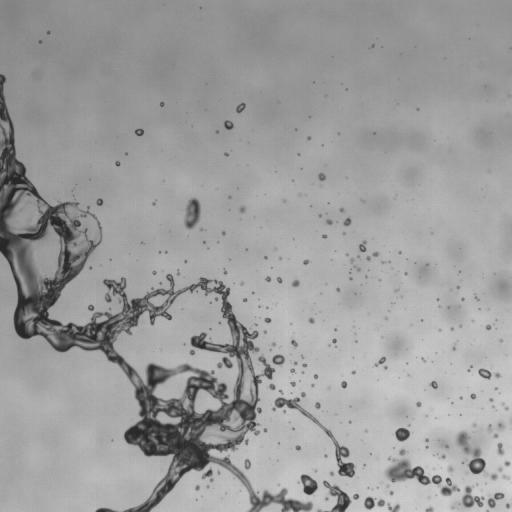droplet: (184, 197, 200, 229), (296, 474, 319, 496), (393, 423, 413, 441), (486, 492, 504, 508), (272, 354, 285, 366), (496, 442, 505, 456), (4, 99, 15, 110), (228, 111, 239, 122), (176, 209, 187, 220), (62, 282, 73, 293), (125, 289, 136, 300), (95, 300, 106, 311), (110, 302, 121, 313), (46, 307, 57, 318), (78, 315, 89, 326), (253, 362, 264, 373), (300, 398, 311, 409), (497, 410, 508, 421), (130, 412, 141, 423), (446, 433, 457, 444), (466, 436, 477, 447), (129, 443, 140, 454), (450, 443, 461, 454), (230, 455, 241, 466), (187, 468, 198, 479), (466, 472, 477, 483), (335, 475, 346, 486), (395, 478, 406, 489), (489, 481, 500, 492), (428, 483, 439, 494), (315, 485, 326, 496), (482, 487, 493, 498), (451, 490, 462, 501), (297, 492, 308, 503), (133, 495, 144, 506), (358, 240, 367, 252), (236, 102, 245, 113), (271, 502, 282, 511), (224, 120, 234, 129), (342, 217, 351, 226), (180, 197, 189, 206), (90, 204, 99, 213), (321, 224, 330, 233), (357, 257, 366, 266), (282, 277, 291, 286), (161, 280, 170, 289), (111, 293, 120, 302), (9, 296, 18, 305), (230, 305, 239, 314), (235, 314, 244, 323), (257, 321, 266, 330), (32, 334, 41, 343), (95, 349, 104, 358), (282, 360, 291, 369), (305, 366, 314, 375), (126, 385, 135, 394), (270, 389, 279, 398), (306, 404, 315, 413), (244, 429, 253, 438), (326, 445, 335, 454), (207, 447, 216, 456), (440, 458, 449, 467), (423, 468, 432, 477), (269, 486, 278, 495), (371, 491, 380, 500), (163, 492, 172, 501), (443, 494, 452, 503), (328, 496, 337, 505), (429, 380, 437, 389), (266, 383, 275, 391), (447, 465, 454, 475), (244, 458, 250, 469), (505, 449, 511, 460), (505, 491, 511, 502), (260, 505, 271, 511), (370, 505, 381, 511), (468, 505, 479, 511), (492, 505, 503, 511), (291, 279, 299, 287), (134, 128, 143, 135), (318, 172, 325, 181), (501, 473, 510, 480), (239, 205, 246, 213), (353, 265, 361, 272), (96, 198, 103, 205), (40, 33, 47, 40), (2, 89, 9, 96), (14, 153, 21, 160), (24, 171, 31, 178), (187, 192, 194, 199), (49, 199, 56, 206), (198, 206, 205, 213), (178, 220, 185, 227), (193, 222, 200, 229), (179, 223, 186, 230), (365, 248, 372, 255), (87, 252, 94, 259), (353, 258, 360, 265), (81, 265, 88, 272), (359, 268, 366, 275), (106, 273, 113, 280), (270, 277, 277, 284), (223, 280, 230, 287), (101, 285, 108, 292), (466, 294, 473, 301), (225, 295, 232, 302), (54, 298, 61, 305), (93, 305, 100, 312), (7, 310, 14, 317), (60, 318, 67, 325), (7, 319, 14, 326), (263, 322, 270, 329), (14, 334, 21, 341), (20, 337, 27, 344), (251, 338, 258, 345), (70, 345, 77, 352), (265, 357, 272, 364), (111, 361, 118, 368), (294, 364, 301, 371), (471, 366, 478, 373), (290, 373, 297, 380), (259, 374, 266, 381), (490, 390, 497, 397), (283, 392, 290, 399), (134, 404, 141, 411), (290, 407, 297, 414), (502, 417, 509, 424), (465, 428, 472, 435), (438, 447, 445, 454), (166, 453, 173, 460), (401, 453, 408, 460), (466, 453, 473, 460), (149, 454, 156, 461), (341, 456, 348, 463), (237, 463, 244, 470), (202, 464, 209, 471), (219, 466, 226, 473), (159, 470, 166, 477), (383, 476, 390, 483), (411, 476, 418, 483), (233, 477, 240, 484), (439, 479, 446, 486), (316, 481, 323, 488), (173, 482, 180, 489), (458, 489, 465, 496), (469, 489, 476, 496), (346, 490, 353, 497), (242, 491, 249, 498), (256, 491, 263, 498), (283, 493, 290, 500), (358, 495, 365, 502), (383, 495, 390, 502), (494, 498, 501, 505), (100, 501, 107, 508), (302, 259, 310, 265), (341, 380, 347, 388), (425, 505, 433, 511), (506, 465, 511, 474), (326, 219, 333, 225), (372, 251, 379, 257), (265, 276, 272, 282), (264, 317, 271, 323), (308, 317, 314, 324), (289, 380, 295, 387), (314, 402, 320, 409), (503, 460, 510, 466), (496, 466, 503, 472), (276, 277, 282, 283), (88, 304, 94, 310), (485, 324, 491, 330), (470, 393, 476, 399), (0, 252, 4, 261), (438, 454, 445, 459), (416, 401, 421, 407), (295, 445, 301, 450), (329, 470, 334, 476), (194, 484, 199, 490), (149, 507, 156, 511), (309, 507, 316, 511), (343, 507, 350, 511), (488, 507, 495, 511), (115, 161, 120, 166), (339, 207, 344, 212), (242, 297, 247, 302), (421, 357, 426, 362), (290, 368, 295, 373), (313, 374, 318, 379), (471, 422, 476, 427), (444, 444, 449, 449), (4, 74, 9, 79), (2, 81, 7, 86), (231, 105, 236, 110), (8, 112, 13, 117), (11, 120, 16, 125), (12, 125, 17, 130), (220, 125, 225, 130), (224, 128, 229, 133), (13, 141, 18, 146), (22, 161, 27, 166), (323, 171, 328, 176), (313, 174, 318, 179), (315, 178, 320, 183), (321, 179, 326, 184), (37, 190, 42, 195), (60, 197, 65, 202), (68, 197, 73, 202), (239, 201, 244, 206), (88, 207, 93, 212), (234, 207, 239, 212), (244, 207, 249, 212), (239, 212, 244, 217), (326, 214, 331, 219), (321, 215, 326, 220), (330, 216, 335, 221), (340, 216, 345, 221), (350, 218, 355, 223), (347, 223, 352, 228), (343, 225, 348, 230), (101, 227, 106, 232), (354, 246, 359, 251), (359, 251, 364, 256), (345, 255, 350, 260), (370, 255, 375, 260), (83, 262, 88, 267), (384, 262, 389, 267), (351, 267, 356, 272), (172, 275, 177, 280), (270, 275, 275, 280), (115, 277, 120, 282), (289, 277, 294, 282), (193, 278, 198, 283), (11, 281, 16, 286), (185, 281, 190, 286), (298, 281, 303, 286), (153, 284, 158, 289), (294, 285, 299, 290), (12, 286, 17, 291), (172, 286, 177, 291), (122, 287, 127, 292), (228, 289, 233, 294), (396, 290, 401, 295), (138, 293, 143, 298), (260, 306, 265, 311), (88, 310, 93, 315), (110, 310, 115, 315), (384, 311, 389, 316), (312, 315, 317, 320), (304, 320, 309, 325), (449, 321, 454, 326), (453, 324, 458, 329), (257, 330, 262, 335), (294, 337, 299, 342), (327, 338, 332, 343), (275, 340, 280, 345), (45, 342, 50, 347), (288, 343, 293, 348), (296, 344, 301, 349), (50, 347, 55, 352), (86, 349, 91, 354), (56, 350, 61, 355), (270, 351, 275, 356), (375, 355, 380, 360), (425, 359, 430, 364), (297, 360, 302, 365), (382, 360, 387, 365), (269, 362, 274, 367), (289, 363, 294, 368), (378, 363, 383, 368), (302, 366, 307, 371), (489, 368, 494, 373), (498, 369, 503, 374), (271, 371, 276, 376), (490, 374, 495, 379), (479, 376, 484, 381), (311, 378, 316, 383), (435, 379, 440, 384), (294, 381, 299, 386), (257, 382, 262, 387), (336, 382, 341, 387), (274, 385, 279, 390), (304, 390, 309, 395), (257, 392, 262, 397), (276, 392, 281, 397), (295, 392, 300, 397), (304, 393, 309, 398), (255, 402, 260, 407), (270, 402, 275, 407), (282, 404, 287, 409), (498, 405, 503, 410), (275, 406, 280, 411), (299, 413, 304, 418), (318, 418, 323, 423), (310, 421, 315, 426), (491, 422, 496, 427), (401, 423, 406, 428), (325, 424, 330, 429), (394, 424, 399, 429), (254, 425, 259, 430), (482, 428, 487, 433), (330, 429, 335, 434), (259, 430, 264, 435), (321, 431, 326, 436), (391, 434, 396, 439), (495, 437, 500, 442), (121, 438, 126, 443), (403, 438, 408, 443), (441, 439, 446, 444), (426, 440, 431, 445), (338, 441, 343, 446), (501, 444, 506, 449), (493, 445, 498, 450), (348, 449, 353, 454), (479, 453, 484, 458), (331, 455, 336, 460), (439, 458, 444, 463), (499, 461, 504, 466), (420, 463, 425, 468), (334, 465, 339, 470), (464, 465, 469, 470), (483, 465, 488, 470), (211, 469, 216, 474), (422, 470, 427, 475), (467, 470, 472, 475), (478, 471, 483, 476), (496, 471, 501, 476), (310, 474, 315, 479), (343, 474, 348, 479), (427, 474, 432, 479), (204, 475, 209, 480), (295, 475, 300, 480), (485, 476, 490, 481), (450, 479, 455, 484), (208, 481, 213, 486), (329, 481, 334, 486), (428, 481, 433, 486), (466, 481, 471, 486), (298, 483, 303, 488), (199, 484, 204, 489), (340, 486, 345, 491), (324, 487, 329, 492), (495, 487, 500, 492), (313, 489, 318, 494), (368, 492, 373, 497), (482, 499, 487, 504), (472, 501, 477, 506), (390, 502, 395, 507), (382, 503, 387, 508), (124, 504, 129, 509), (199, 227, 205, 231), (350, 257, 354, 263), (223, 268, 227, 274), (350, 370, 356, 374), (0, 133, 3, 140), (160, 102, 164, 107), (224, 152, 229, 156), (221, 230, 225, 235), (322, 234, 327, 238), (356, 254, 360, 259), (366, 256, 370, 261), (152, 270, 156, 275), (336, 287, 340, 292), (394, 288, 399, 292), (450, 326, 454, 331), (499, 338, 503, 343), (271, 342, 276, 346), (302, 363, 307, 367), (363, 428, 367, 433), (312, 468, 317, 472), (385, 483, 389, 488), (389, 490, 393, 495), (217, 469, 220, 475), (46, 30, 50, 34), (307, 136, 311, 140), (282, 198, 286, 202), (278, 256, 282, 260), (240, 281, 244, 285), (456, 285, 460, 289), (214, 297, 218, 301), (384, 316, 388, 320), (263, 330, 267, 334), (489, 398, 493, 402), (263, 428, 267, 432), (507, 507, 511, 511), (184, 258, 187, 263), (301, 354, 304, 359), (0, 69, 3, 74), (508, 405, 511, 410), (365, 508, 370, 511), (396, 508, 401, 511), (432, 508, 437, 511), (451, 508, 456, 511), (38, 40, 42, 43), (416, 107, 419, 111), (215, 130, 219, 133), (228, 195, 231, 199), (360, 199, 364, 202), (398, 250, 401, 254), (345, 253, 349, 256), (425, 263, 429, 266), (458, 270, 461, 274), (461, 297, 464, 301), (258, 304, 262, 307), (254, 323, 258, 326), (458, 324, 462, 327), (182, 342, 186, 345), (294, 361, 297, 365), (311, 383, 314, 387), (494, 387, 498, 390), (324, 454, 327, 458), (206, 484, 209, 488), (371, 44, 374, 47), (337, 132, 340, 135), (124, 152, 127, 155), (297, 153, 300, 156), (318, 214, 321, 217), (342, 232, 345, 235), (158, 250, 161, 253), (164, 250, 167, 253), (264, 256, 267, 259), (89, 266, 92, 269), (404, 272, 407, 275), (349, 277, 352, 280), (378, 278, 381, 281), (159, 281, 162, 284), (251, 291, 254, 294), (436, 298, 439, 301), (438, 305, 441, 308), (265, 306, 268, 309), (471, 319, 474, 322), (218, 321, 221, 324), (289, 322, 292, 325), (334, 328, 337, 331), (438, 328, 441, 331), (269, 348, 272, 351), (301, 371, 304, 374), (407, 373, 410, 376), (327, 386, 330, 389), (459, 396, 462, 399), (430, 407, 433, 410), (425, 414, 428, 417), (348, 420, 351, 423), (292, 427, 295, 430), (432, 467, 435, 470), (277, 483, 280, 486), (427, 496, 430, 499), (196, 6, 199, 9), (47, 27, 50, 30), (44, 28, 47, 31), (49, 30, 52, 33), (46, 33, 49, 36), (38, 36, 41, 39), (35, 39, 38, 42), (41, 39, 44, 42), (39, 42, 42, 45), (368, 43, 371, 46), (373, 44, 376, 47), (370, 47, 373, 50), (159, 98, 162, 101), (243, 100, 246, 103), (237, 101, 240, 104), (156, 102, 159, 105), (163, 103, 166, 106), (416, 104, 419, 107), (418, 108, 421, 111), (241, 109, 244, 112), (236, 112, 239, 115), (232, 123, 235, 126), (138, 125, 141, 128), (131, 129, 134, 132), (212, 129, 215, 132), (143, 130, 146, 133), (375, 131, 378, 134), (133, 133, 136, 136), (141, 133, 144, 136), (137, 135, 140, 138), (304, 137, 307, 140), (309, 138, 312, 141), (320, 140, 323, 143), (323, 143, 326, 146), (124, 148, 127, 151), (297, 149, 300, 152), (226, 150, 229, 153), (121, 151, 124, 154), (127, 152, 130, 155), (223, 155, 226, 158), (296, 155, 299, 158), (115, 157, 118, 160), (119, 162, 122, 165), (112, 163, 115, 166), (299, 164, 302, 167), (115, 165, 118, 168), (228, 192, 231, 195), (231, 195, 234, 198), (101, 197, 104, 200), (151, 198, 154, 201), (227, 198, 230, 201), (326, 198, 329, 201), (154, 200, 157, 203), (148, 201, 151, 204), (101, 202, 104, 205), (327, 203, 330, 206), (311, 204, 314, 207), (339, 204, 342, 207), (152, 205, 155, 208), (343, 206, 346, 209), (83, 207, 86, 210), (316, 211, 319, 214), (94, 213, 97, 216), (315, 215, 318, 218), (96, 216, 99, 219), (349, 216, 352, 219), (332, 220, 335, 223), (99, 223, 102, 226), (201, 230, 204, 233), (224, 230, 227, 233), (218, 231, 221, 234), (322, 231, 325, 234), (318, 234, 321, 237), (326, 234, 329, 237), (101, 236, 104, 239), (202, 237, 205, 240), (321, 237, 324, 240), (142, 239, 145, 242), (137, 240, 140, 243), (199, 240, 202, 243), (205, 240, 208, 243), (359, 240, 362, 243), (140, 243, 143, 246), (202, 243, 205, 246), (244, 244, 247, 247), (94, 246, 97, 249), (247, 247, 250, 250), (166, 248, 169, 251), (155, 249, 158, 252), (395, 249, 398, 252), (244, 250, 247, 253), (160, 251, 163, 254), (263, 252, 266, 255), (400, 252, 403, 255), (164, 253, 167, 256), (260, 255, 263, 258), (353, 255, 356, 258), (303, 256, 306, 259), (111, 257, 114, 260), (181, 258, 184, 261), (262, 258, 265, 261), (186, 259, 189, 262), (424, 260, 427, 263), (352, 261, 355, 264), (301, 263, 304, 266), (305, 263, 308, 266), (413, 263, 416, 266), (349, 264, 352, 267), (356, 264, 359, 267), (91, 265, 94, 268), (425, 265, 428, 268), (224, 267, 227, 270), (459, 267, 462, 270), (90, 268, 93, 271), (154, 268, 157, 271), (347, 268, 350, 271), (404, 268, 407, 271), (178, 269, 181, 272), (220, 269, 223, 272), (166, 270, 169, 273), (455, 270, 458, 273), (401, 271, 404, 274), (407, 271, 410, 274), (149, 272, 152, 275), (458, 272, 461, 275), (154, 273, 157, 276), (348, 273, 351, 276), (366, 273, 369, 276), (122, 274, 125, 277), (361, 274, 364, 277), (405, 274, 408, 277), (263, 275, 266, 278), (206, 276, 209, 279), (280, 276, 283, 279), (216, 278, 219, 281), (281, 279, 284, 282), (347, 279, 350, 282), (264, 280, 267, 283), (125, 281, 128, 284), (222, 281, 225, 284), (457, 282, 460, 285), (242, 283, 245, 286), (334, 284, 337, 287), (395, 285, 398, 288), (339, 287, 342, 290), (453, 287, 456, 290), (458, 287, 461, 290), (252, 288, 255, 291), (333, 288, 336, 291), (148, 289, 151, 292), (248, 290, 251, 293), (252, 293, 255, 296), (462, 294, 465, 297), (471, 294, 474, 297), (242, 295, 245, 298), (476, 295, 479, 298), (458, 296, 461, 299), (246, 297, 249, 300), (239, 298, 242, 301), (433, 298, 436, 301), (463, 298, 466, 301), (473, 298, 476, 301), (391, 299, 394, 302), (437, 300, 440, 303), (477, 300, 480, 303), (88, 301, 91, 304), (242, 301, 245, 304), (259, 302, 262, 305), (263, 303, 266, 306), (392, 303, 395, 306), (254, 304, 257, 307), (268, 304, 271, 307), (477, 304, 480, 307), (84, 305, 87, 308), (258, 307, 261, 310), (267, 307, 270, 310), (476, 309, 479, 312), (267, 314, 270, 317), (420, 315, 423, 318), (417, 318, 420, 321), (383, 319, 386, 322), (422, 319, 425, 322), (254, 320, 257, 323), (268, 321, 271, 324), (489, 322, 492, 325), (461, 324, 464, 327), (336, 326, 339, 329), (435, 326, 438, 329), (440, 326, 443, 329), (447, 327, 450, 330), (458, 327, 461, 330), (488, 328, 491, 331), (450, 330, 453, 333), (438, 331, 441, 334), (355, 336, 358, 339), (501, 336, 504, 339), (335, 337, 338, 340), (288, 338, 291, 341), (357, 339, 360, 342), (501, 341, 504, 344), (331, 342, 334, 345), (354, 342, 357, 345), (454, 345, 457, 348), (449, 346, 452, 349), (302, 353, 305, 356), (423, 356, 426, 359), (419, 359, 422, 362), (303, 360, 306, 363), (407, 361, 410, 364), (371, 362, 374, 365), (306, 363, 309, 366), (403, 363, 406, 366), (466, 365, 469, 368), (373, 366, 376, 369), (351, 367, 354, 370), (386, 367, 389, 370), (469, 367, 472, 370), (487, 368, 490, 371), (288, 371, 291, 374), (300, 373, 303, 376), (351, 373, 354, 376), (317, 374, 320, 377), (310, 375, 313, 378), (498, 376, 501, 379), (290, 378, 293, 381), (428, 379, 431, 382), (288, 383, 291, 386), (345, 384, 348, 387), (429, 385, 432, 388), (311, 386, 314, 389), (436, 386, 439, 389), (341, 387, 344, 390), (495, 389, 498, 392), (457, 393, 460, 396), (467, 393, 470, 396), (475, 393, 478, 396), (489, 394, 492, 397), (449, 398, 452, 401), (459, 399, 462, 402), (413, 400, 416, 403), (312, 401, 315, 404), (447, 401, 450, 404), (490, 401, 493, 404), (319, 402, 322, 405), (413, 403, 416, 406), (420, 403, 423, 406), (451, 403, 454, 406), (504, 403, 507, 406), (416, 406, 419, 409), (491, 407, 494, 410), (456, 412, 459, 415), (407, 414, 410, 417), (459, 415, 462, 418), (350, 418, 353, 421), (309, 419, 312, 422), (345, 420, 348, 423), (488, 420, 491, 423), (485, 422, 488, 425), (348, 423, 351, 426), (294, 427, 297, 430), (361, 427, 364, 430), (266, 428, 269, 431), (290, 429, 293, 432), (367, 429, 370, 432), (490, 432, 493, 435), (326, 435, 329, 438), (424, 435, 427, 438), (276, 438, 279, 441), (428, 438, 431, 441), (247, 440, 250, 443), (279, 441, 282, 444), (424, 441, 427, 444), (297, 442, 300, 445), (275, 443, 278, 446), (422, 446, 425, 449), (292, 447, 295, 450), (426, 447, 429, 450), (297, 449, 300, 452), (371, 451, 374, 454), (432, 451, 435, 454), (366, 452, 369, 455), (320, 453, 323, 456), (438, 453, 441, 456), (444, 453, 447, 456), (385, 454, 388, 457), (434, 454, 437, 457), (444, 456, 447, 459), (248, 458, 251, 461), (362, 460, 365, 463), (249, 464, 252, 467), (451, 464, 454, 467), (363, 465, 366, 468), (437, 472, 440, 475), (377, 483, 380, 486), (368, 484, 371, 487), (192, 485, 195, 488), (208, 486, 211, 489), (386, 490, 389, 493), (392, 492, 395, 495), (197, 497, 200, 500), (192, 498, 195, 501), (425, 505, 428, 508), (140, 241, 144, 243), (365, 274, 367, 278), (476, 482, 478, 486), (295, 128, 297, 131), (292, 179, 294, 182), (203, 240, 205, 243), (217, 240, 219, 243), (228, 258, 231, 260), (349, 271, 351, 274), (478, 308, 481, 310), (420, 319, 423, 321), (209, 327, 211, 330), (354, 332, 356, 335), (328, 343, 330, 346), (405, 362, 408, 364), (290, 391, 292, 394), (434, 417, 437, 419), (277, 442, 279, 445), (369, 452, 371, 455), (376, 486, 378, 489), (509, 461, 511, 464), (509, 476, 511, 479), (422, 509, 425, 511), (345, 88, 347, 90), (373, 132, 375, 134), (321, 144, 323, 146), (327, 202, 329, 204), (309, 205, 311, 207), (207, 247, 209, 249), (245, 248, 247, 250), (109, 258, 111, 260), (270, 266, 272, 268), (320, 292, 322, 294), (354, 292, 356, 294), (209, 301, 211, 303), (275, 303, 277, 305), (447, 306, 449, 308), (487, 308, 489, 310), (495, 319, 497, 321), (381, 336, 383, 338), (355, 340, 357, 342), (435, 352, 437, 354), (498, 392, 500, 394), (451, 402, 453, 404), (349, 405, 351, 407), (288, 421, 290, 423), (276, 459, 278, 461), (485, 482, 487, 484), (367, 487, 369, 489), (225, 492, 227, 494), (435, 494, 437, 496), (195, 498, 197, 500), (0, 127, 1, 130), (336, 221, 337, 223), (258, 298, 259, 300), (352, 357, 354, 358), (299, 380, 300, 382), (437, 439, 439, 440), (200, 7, 201, 8), (313, 82, 314, 83), (301, 168, 302, 169), (326, 213, 327, 214), (406, 258, 407, 259)
ligament: (272, 389, 355, 476), (383, 448, 460, 497), (455, 430, 498, 480), (364, 496, 400, 511), (478, 368, 501, 380), (290, 335, 298, 349), (505, 498, 511, 509), (501, 402, 508, 410), (332, 337, 337, 348), (452, 340, 457, 351), (424, 438, 429, 449), (467, 364, 473, 372), (380, 260, 391, 264), (474, 293, 479, 301), (491, 405, 497, 411), (152, 199, 157, 206), (461, 458, 467, 463), (176, 268, 180, 275), (362, 463, 366, 469), (432, 453, 438, 456), (509, 416, 511, 424), (485, 509, 489, 511), (459, 413, 461, 416), (111, 438, 113, 441), (73, 195, 74, 197)
